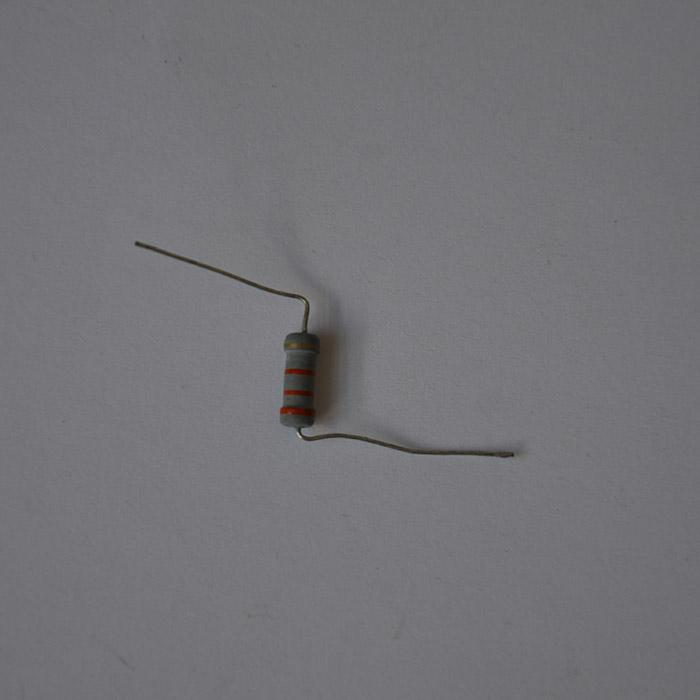resistor: (279, 330, 321, 428)
